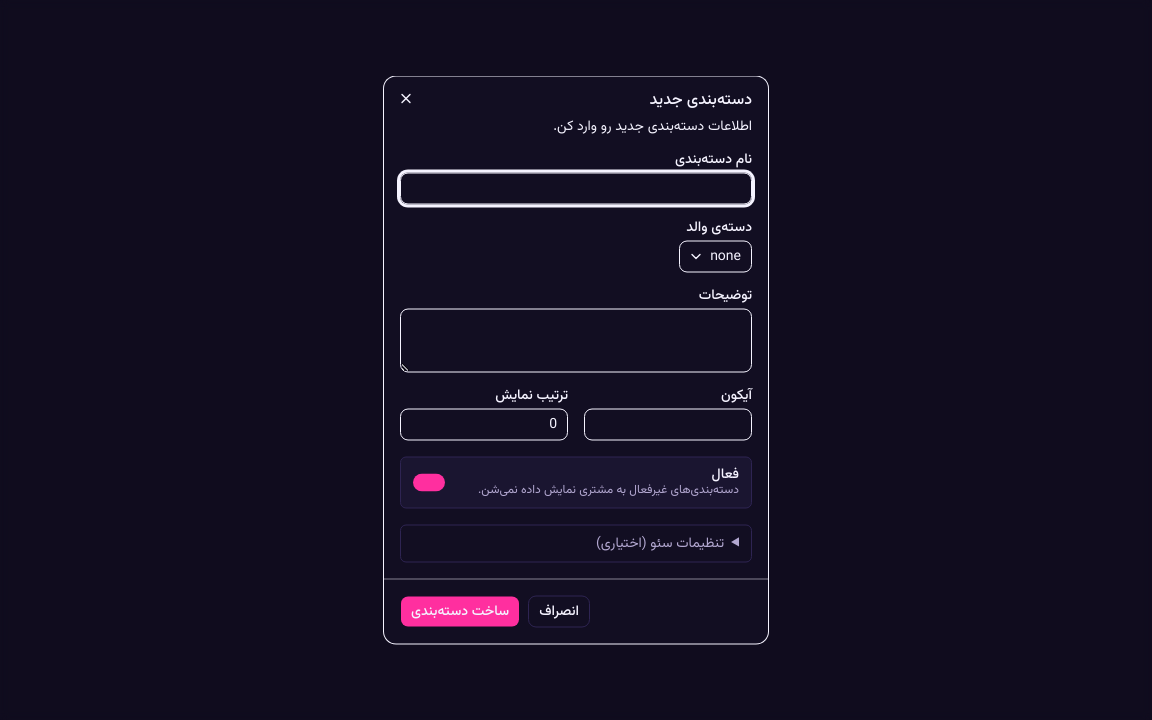
CategoryFormDialog › create mode › submit button is disabled when name is empty
Click the button "ساخت دسته‌بندی".
click(460, 612)  # box [400,596,520,628]
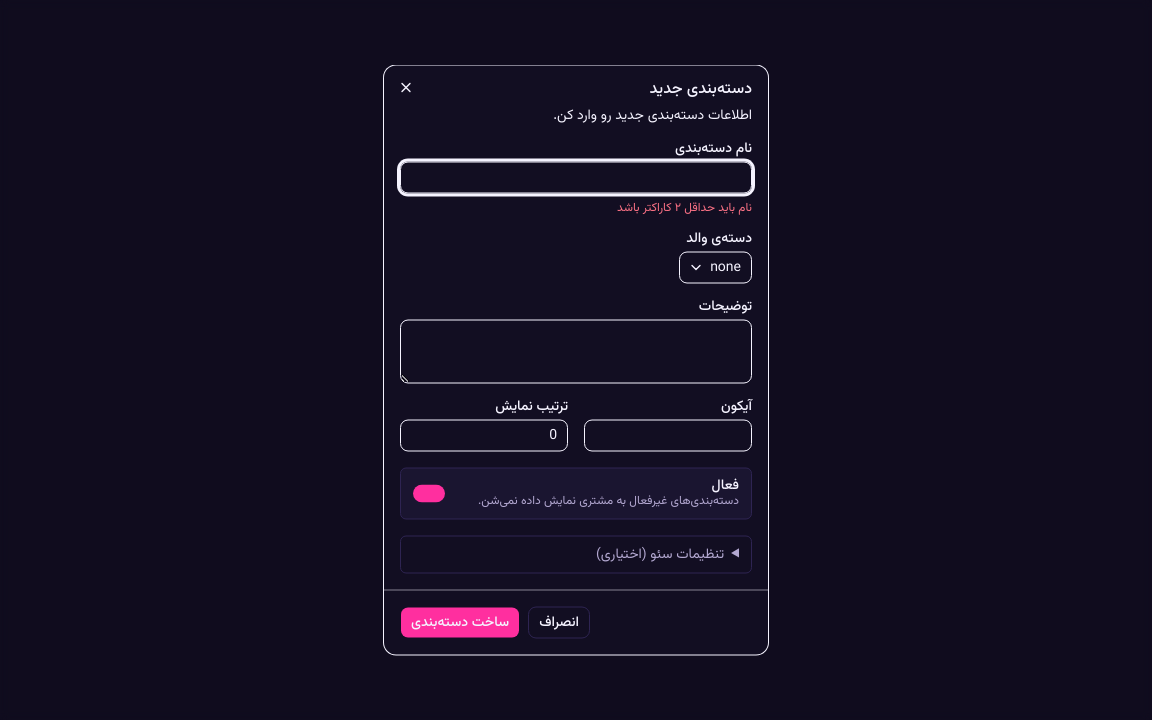
Expected: the text "نام باید حداقل ۲ کاراکتر باشد" is shown, [617,198,752,216]
